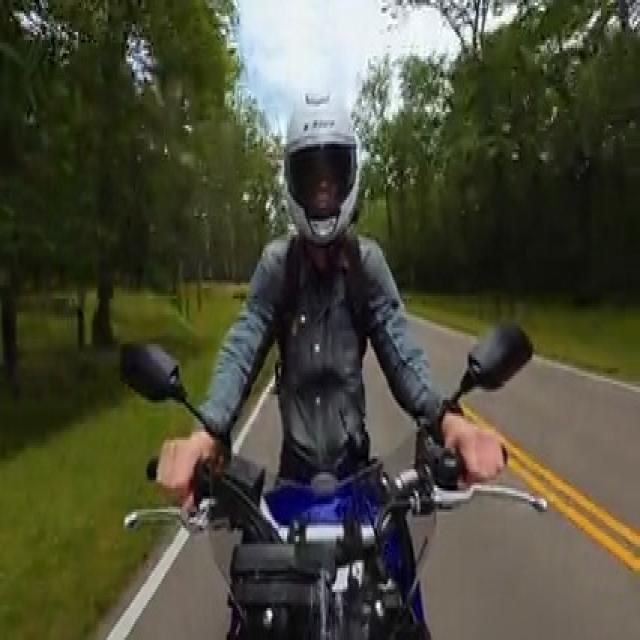Helmet_Wearer: (286, 79, 361, 244)
Person: (138, 83, 502, 504)
